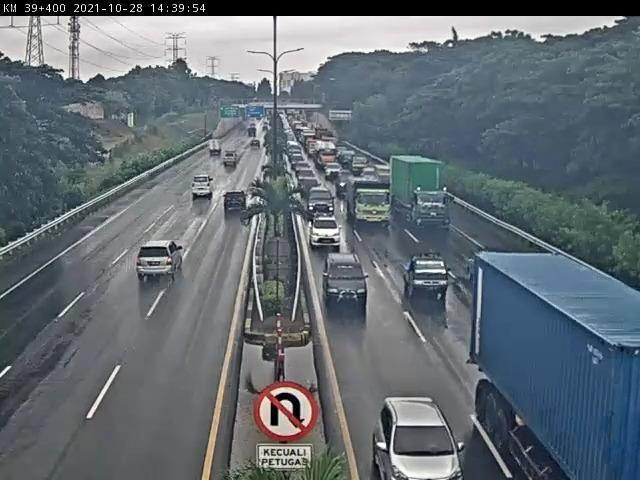car: (375, 396, 465, 480), (323, 251, 368, 303), (135, 243, 184, 280), (406, 254, 448, 297), (309, 213, 339, 247), (307, 186, 332, 213), (191, 175, 213, 199), (225, 193, 250, 213), (299, 173, 320, 194), (224, 151, 239, 169)
truck: (471, 249, 640, 480), (390, 154, 449, 229), (345, 177, 390, 223)
